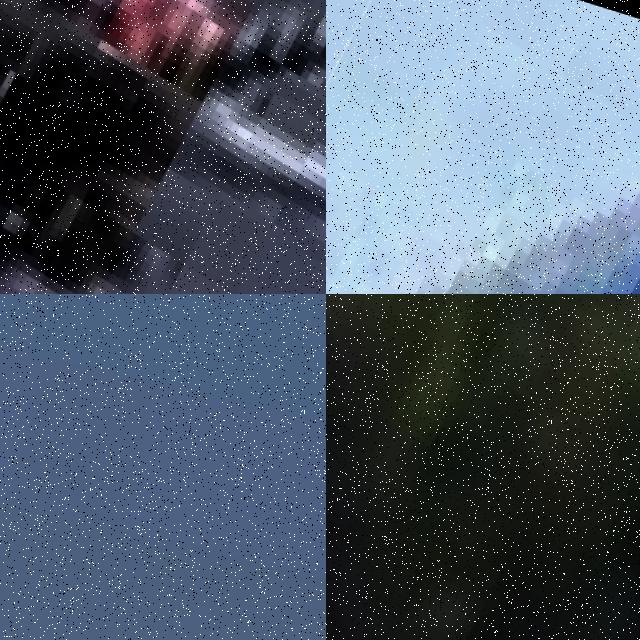0: (0, 0, 326, 294)
drone: (326, 294, 640, 640), (326, 0, 640, 294)
